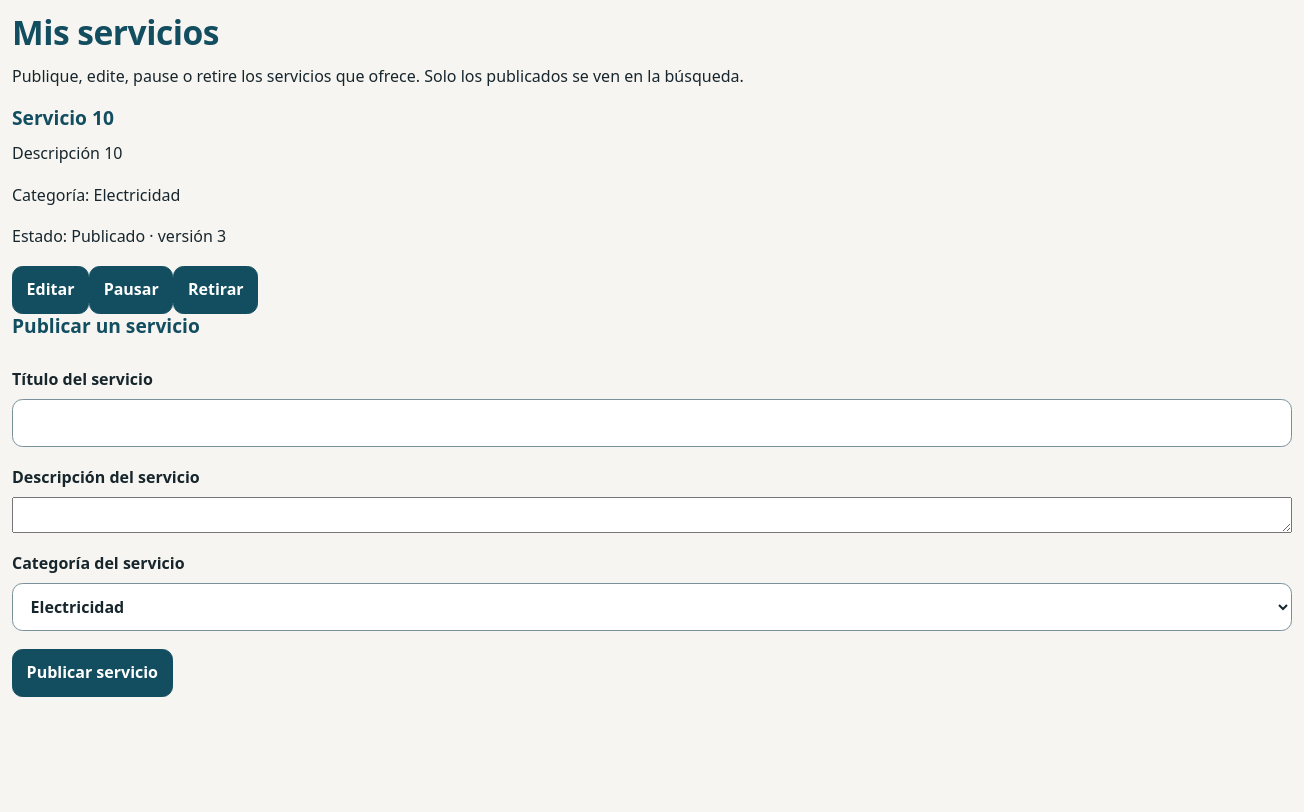
Test: CA-SER-02 pausar y reactivar actualizan el estado y la versión que devuelve el servidor
What coordinates should you click on to do the following:
click the button with aria-label "Pausar Servicio 10"
I would click on:
 (131, 290)
Its box is [89,266,173,314].
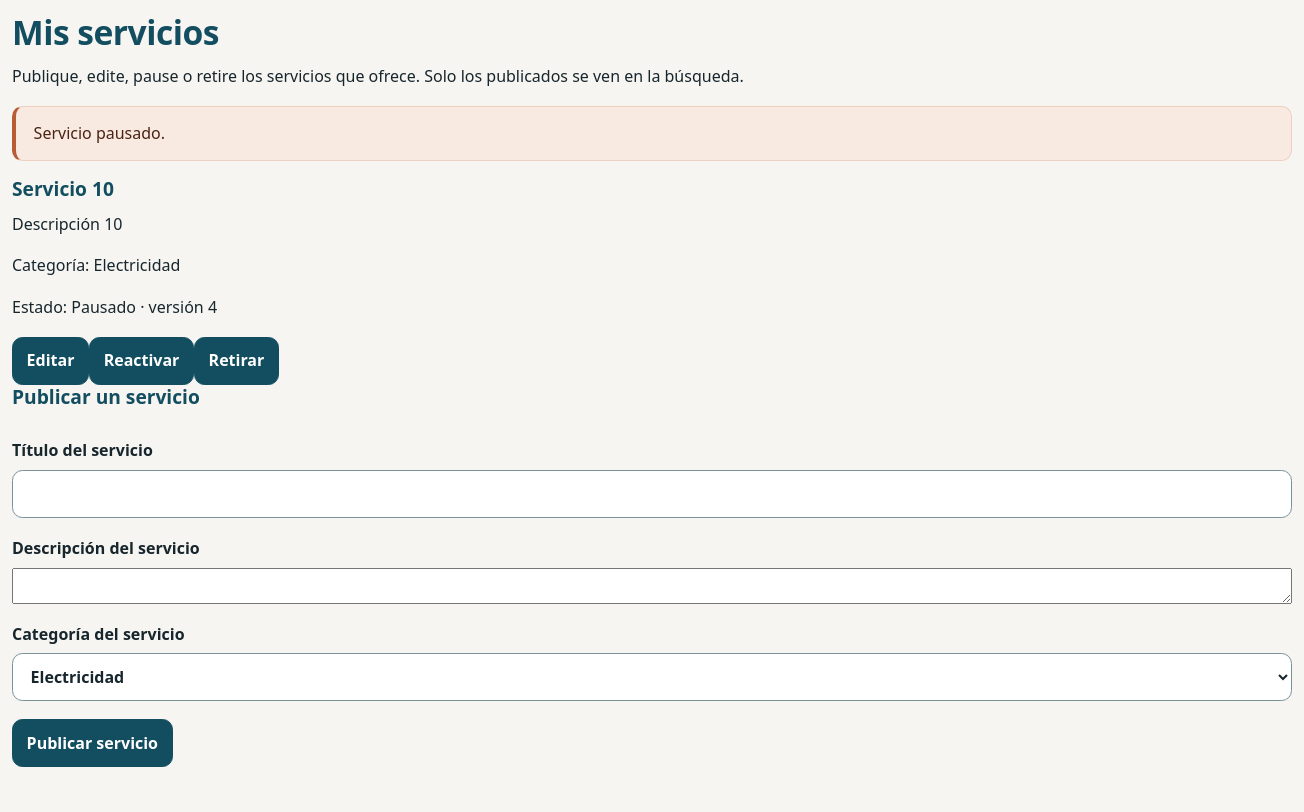
Expected: the text "Estado: Pausado · versión 4" is shown, [12,296,217,318]
What coordinates should you click on to do the following:
click the button with aria-label "Reactivar Servicio 10"
I would click on:
 (142, 360)
Its box is [89,336,194,384].
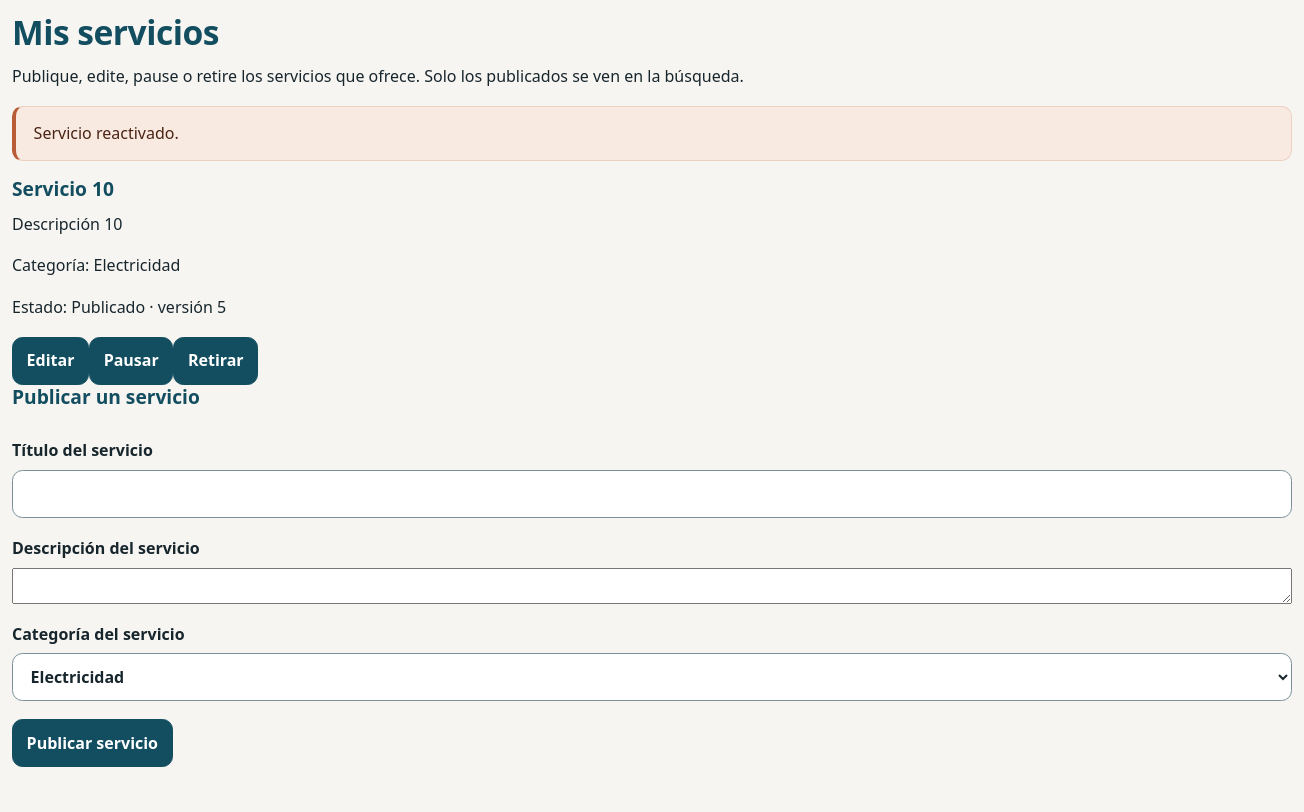
Expected: the text "Estado: Publicado · versión 5" is shown, [12,296,226,318]
